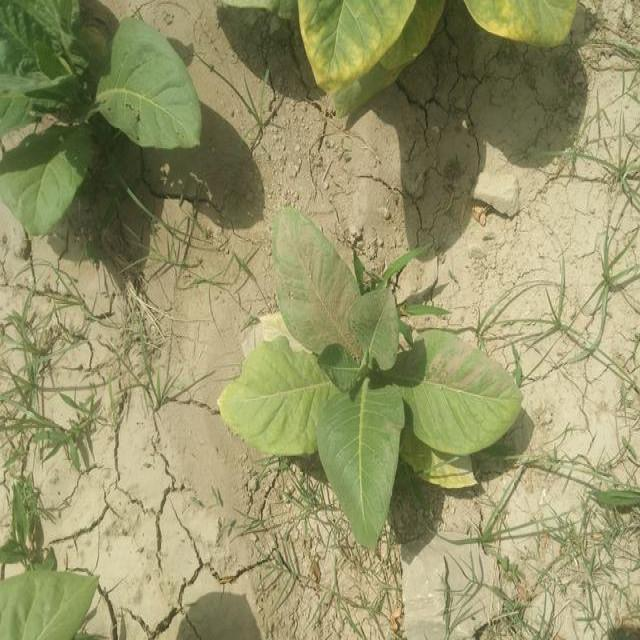crop: (227, 220, 530, 548), (0, 0, 206, 224), (285, 0, 590, 105), (3, 569, 106, 640)
